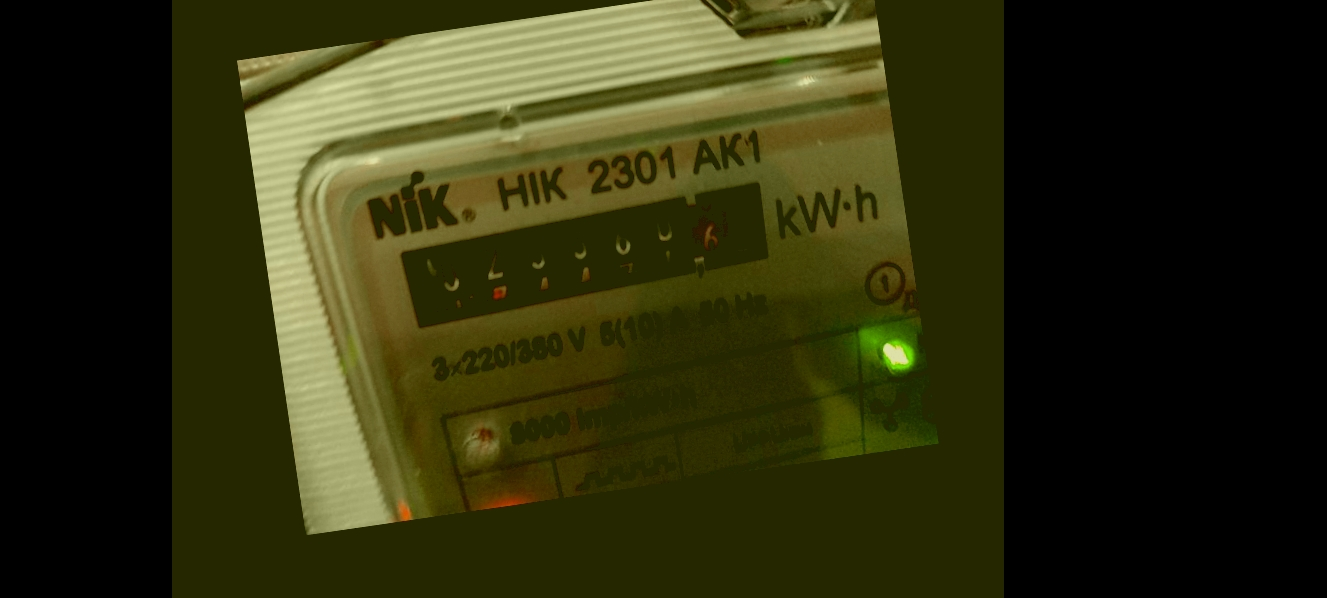0: (434, 250, 465, 295), (650, 204, 678, 244)
2: (477, 238, 508, 281)
3: (523, 230, 550, 272), (564, 222, 592, 262)
6: (606, 215, 638, 259), (699, 216, 725, 255)
screen: (375, 165, 789, 340)
